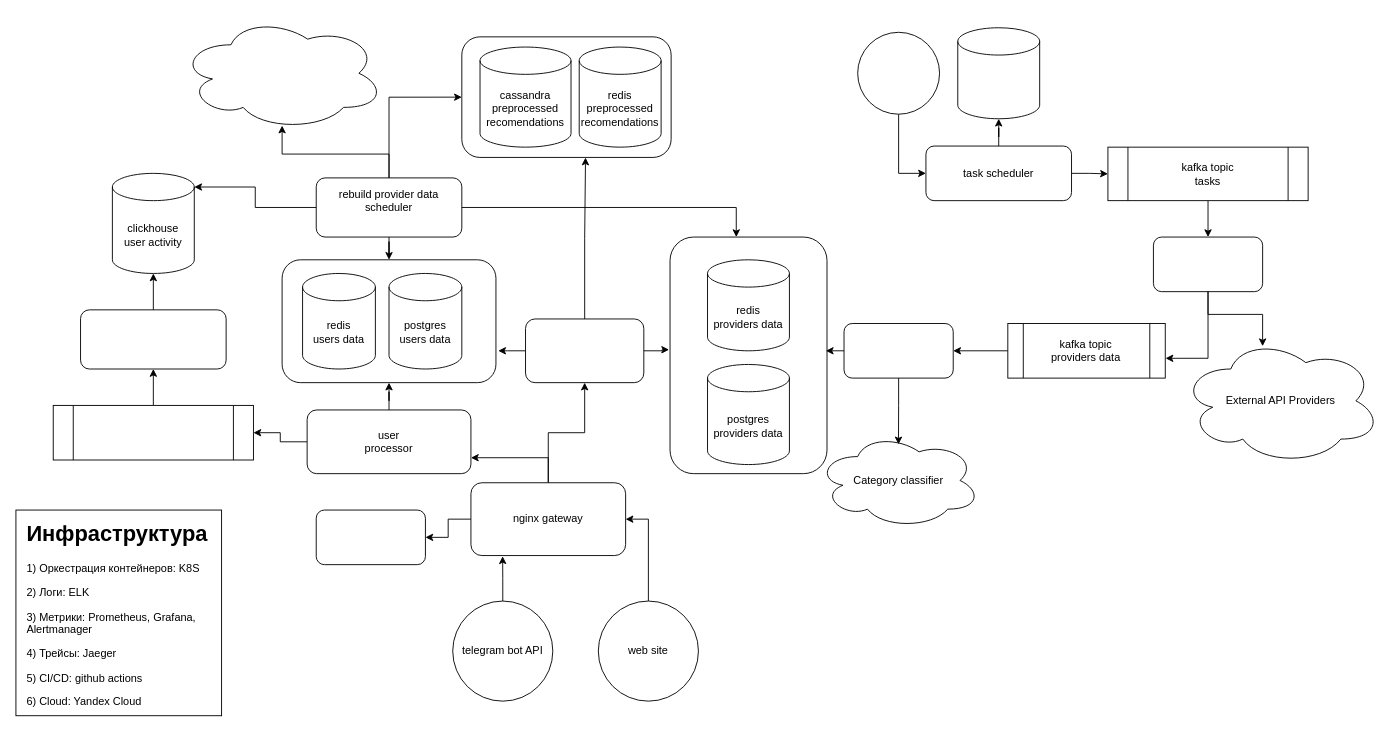
Image size: 1397x733. Some labels were removed from this diagram. The shapes that lost their labels are listed below. From the top down, each one's centre as x and y in pixels, then its label:
At (281,72): "Recommendation model".
At (898,72): "Admin Panel".
At (998,73): "postgres tasks timetable rules".
At (1208,264): "collector".
At (153,339): "user consumer".
At (584,350): "selector".
At (898,350): "provider consumer".
At (152,432): "kafka topic user activity".
At (370,537): "Authorization".
